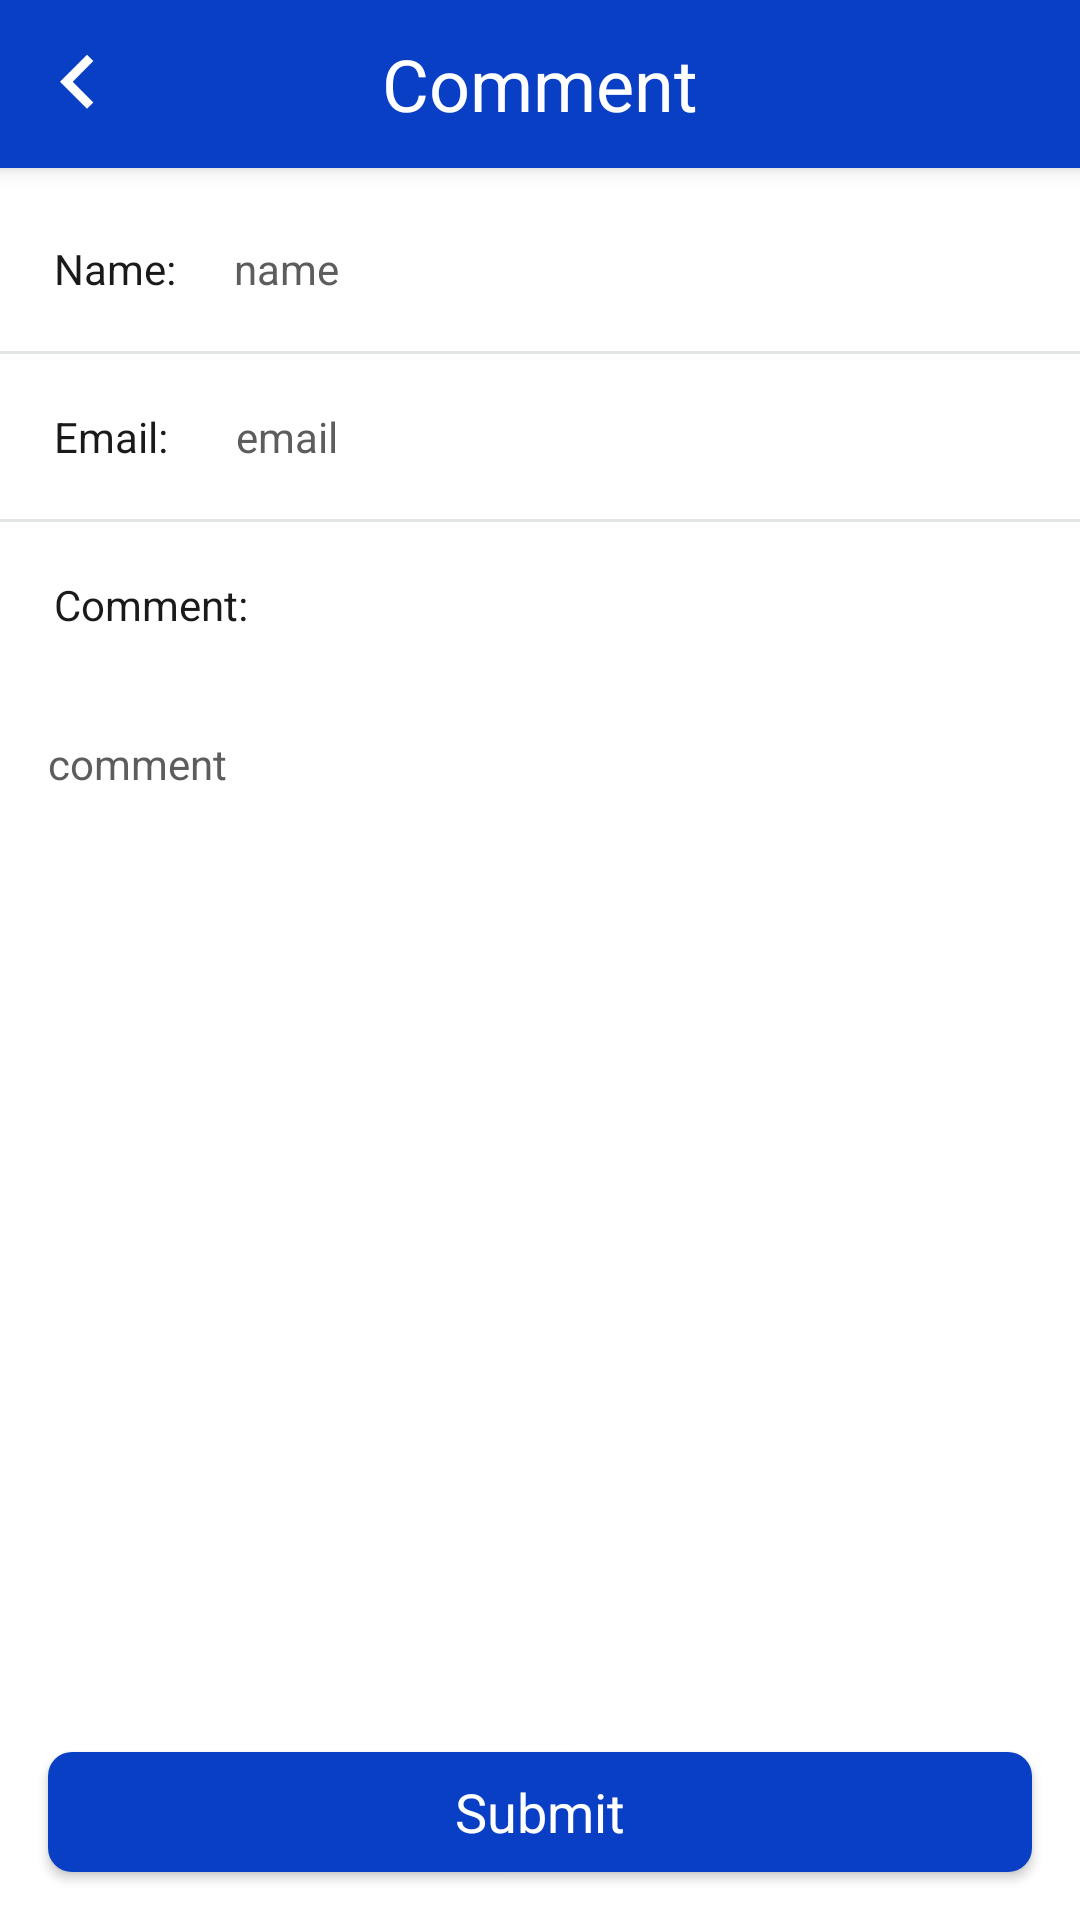

Icons on this 1080*1920 Android screen, each with the point to tap as (x=x, y=y):
arrow left: (x=77, y=82)
